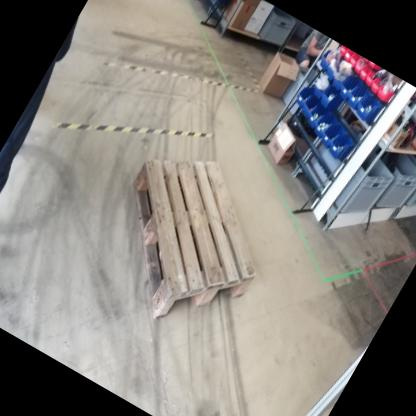BoxFace: (126, 155, 264, 330)
